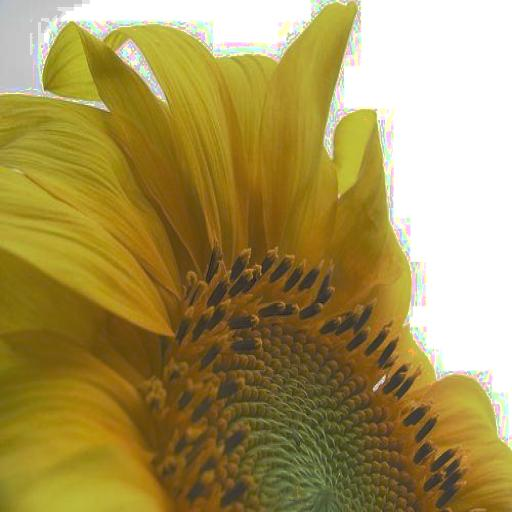sunflower: (0, 15, 512, 512)
